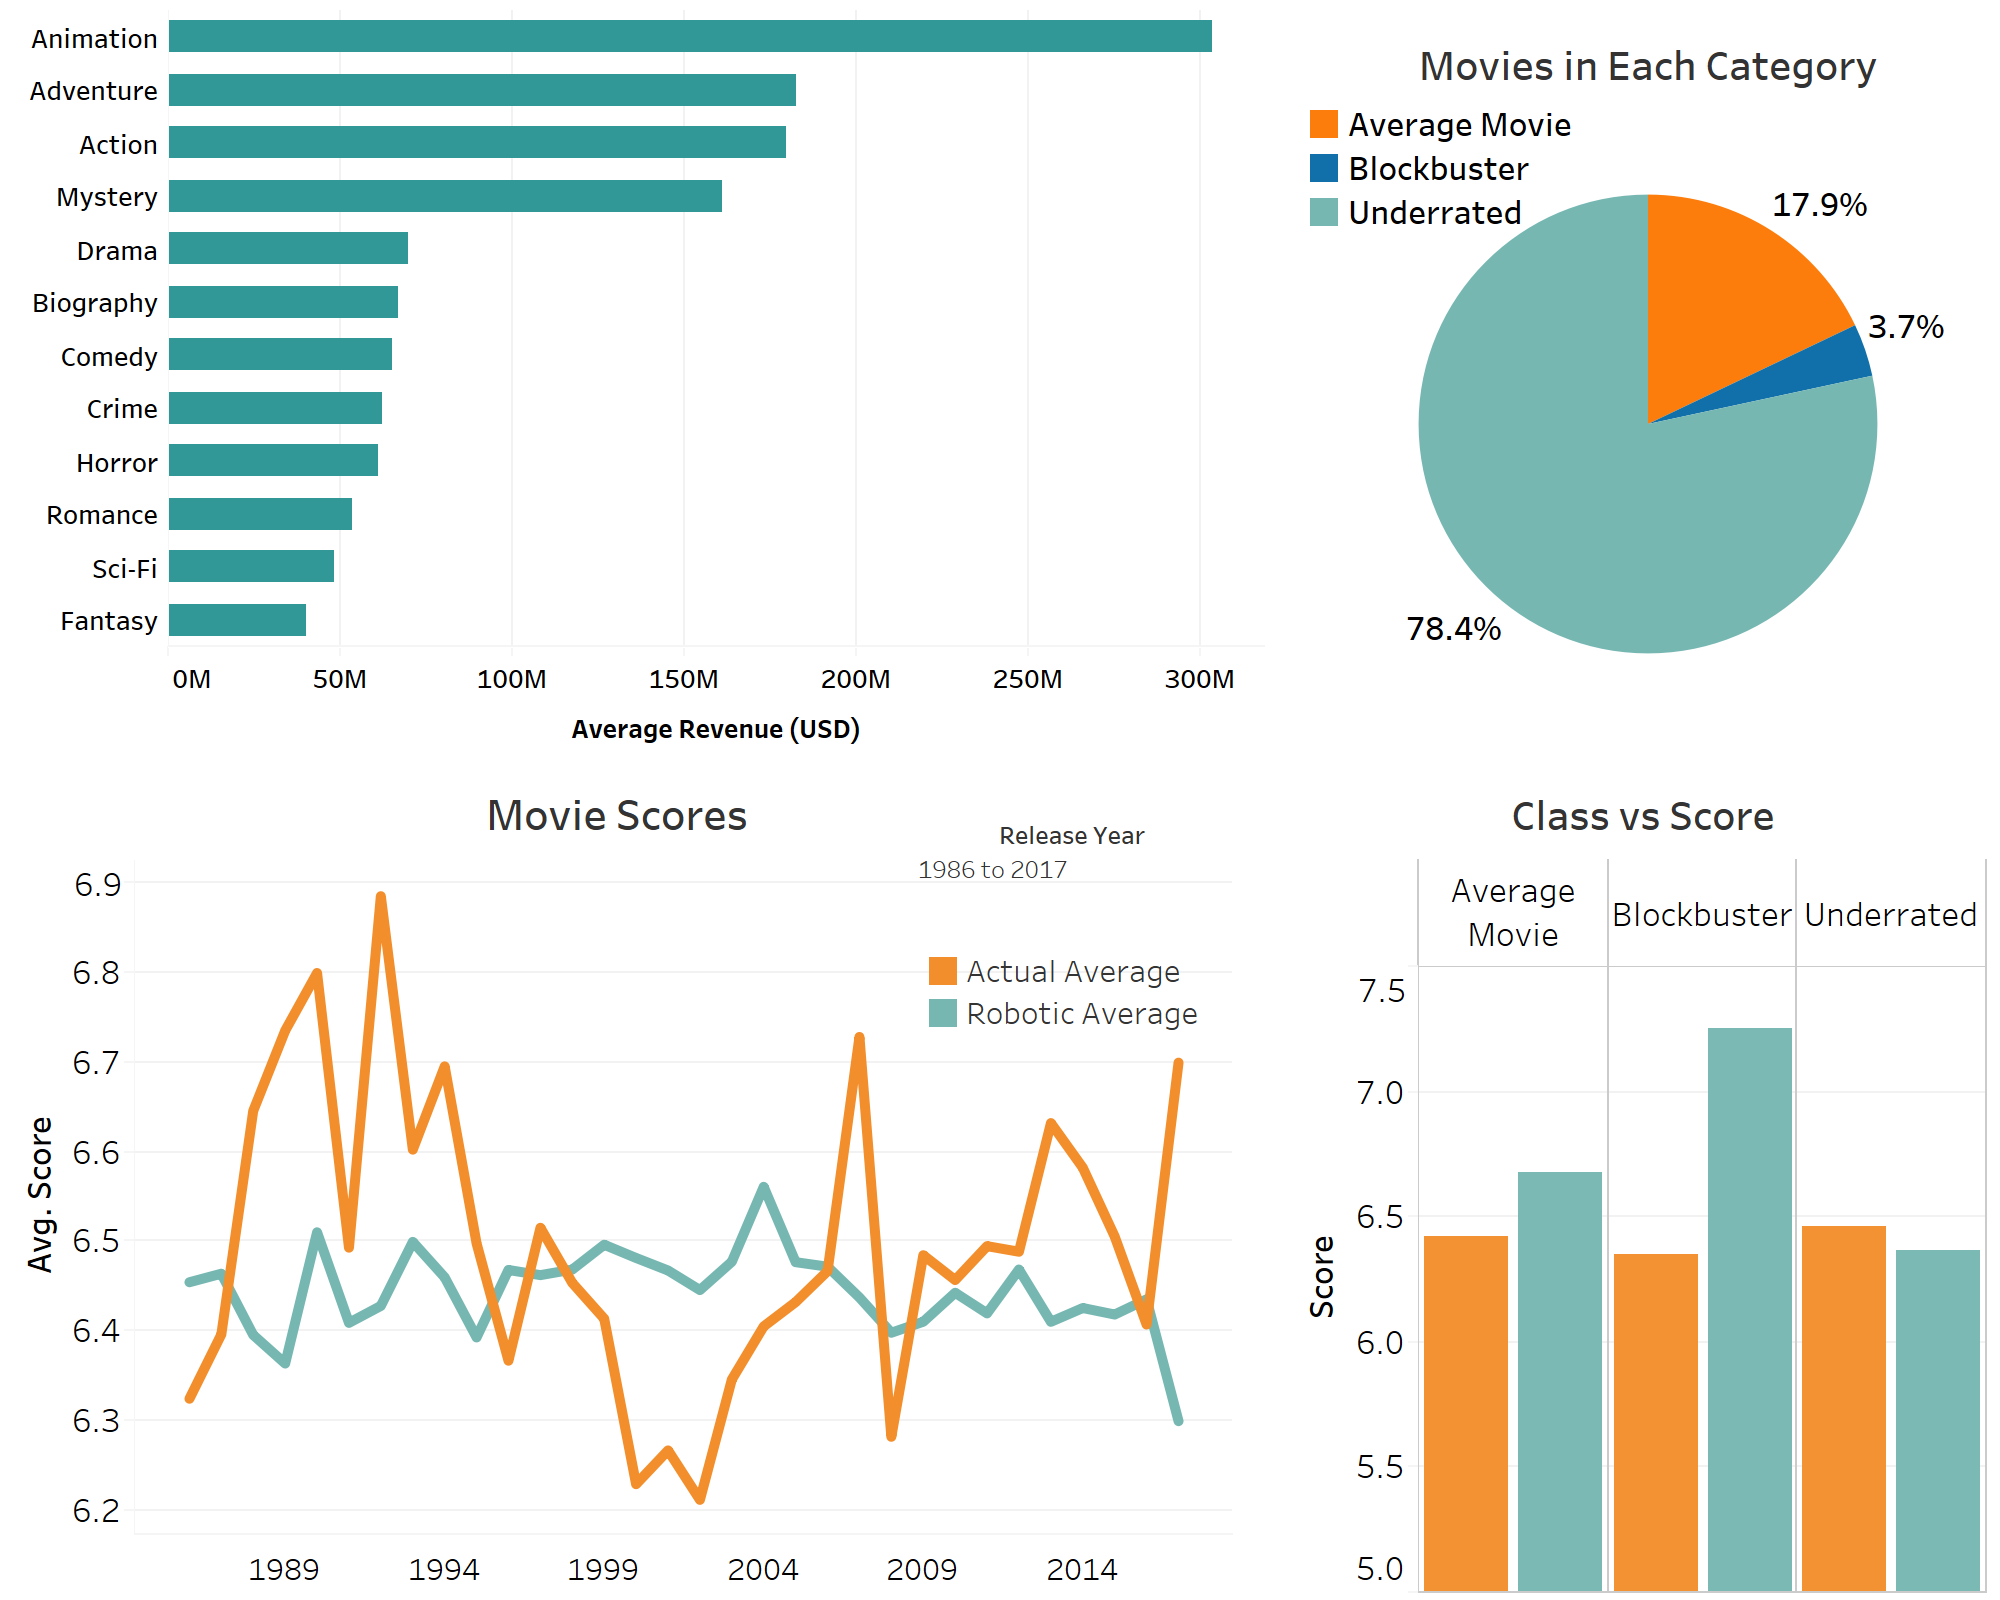

The page's visual inventory and layout, read from the dashboard file:
{"tool":"tableau","page":{"name":"ML (2)","canvas":[1000,800],"ordinal":2},"visuals":[{"type":"worksheet","title":"revenue x genre","mark":"Bar","rows":["genre"],"cols":["revenue"],"box":[4,5,628,375]},{"type":"worksheet","title":"Pie","mark":"Pie","box":[647,12,354,357]},{"type":"worksheet","title":"Pie","mark":"Pie","param":"[federated.1s57mr21bv3s5y17k1c7v0nprqpc].[none:filter_pop:nk]","box":[651,51,150,72]},{"type":"worksheet","title":"Movie Scores","mark":"Automatic","cols":["release_year"],"box":[1,386,615,411]},{"type":"worksheet","title":"Class vs Score","mark":"Automatic","cols":["filter_pop"],"box":[649,387,345,410]},{"type":"worksheet","title":"Movie Scores","mark":"Automatic","cols":["release_year"],"param":"[federated.1s57mr21bv3s5y17k1c7v0nprqpc].[tyr:release_year:qk]","box":[456,408,160,61]},{"type":"worksheet","title":"Movie Scores","mark":"Automatic","cols":["release_year"],"param":"[federated.1s57mr21bv3s5y17k1c7v0nprqpc].[:Measure Names]","box":[461,475,143,64]}]}

Visuals, with their boxes in screenshot pixels (x1, y1, x2, y2), scaled from the page's 1000x800 canvas onto the 2000x1600 screenshot:
"revenue x genre" worksheet (Bar marks): {"left": 8, "top": 10, "right": 1264, "bottom": 760}
"Pie" worksheet (Pie marks): {"left": 1294, "top": 24, "right": 1999, "bottom": 738}
"Pie" worksheet (Pie marks): {"left": 1302, "top": 102, "right": 1602, "bottom": 246}
"Movie Scores" worksheet: {"left": 2, "top": 772, "right": 1232, "bottom": 1594}
"Class vs Score" worksheet: {"left": 1298, "top": 774, "right": 1988, "bottom": 1594}
"Movie Scores" worksheet: {"left": 912, "top": 816, "right": 1232, "bottom": 938}
"Movie Scores" worksheet: {"left": 922, "top": 950, "right": 1208, "bottom": 1078}
